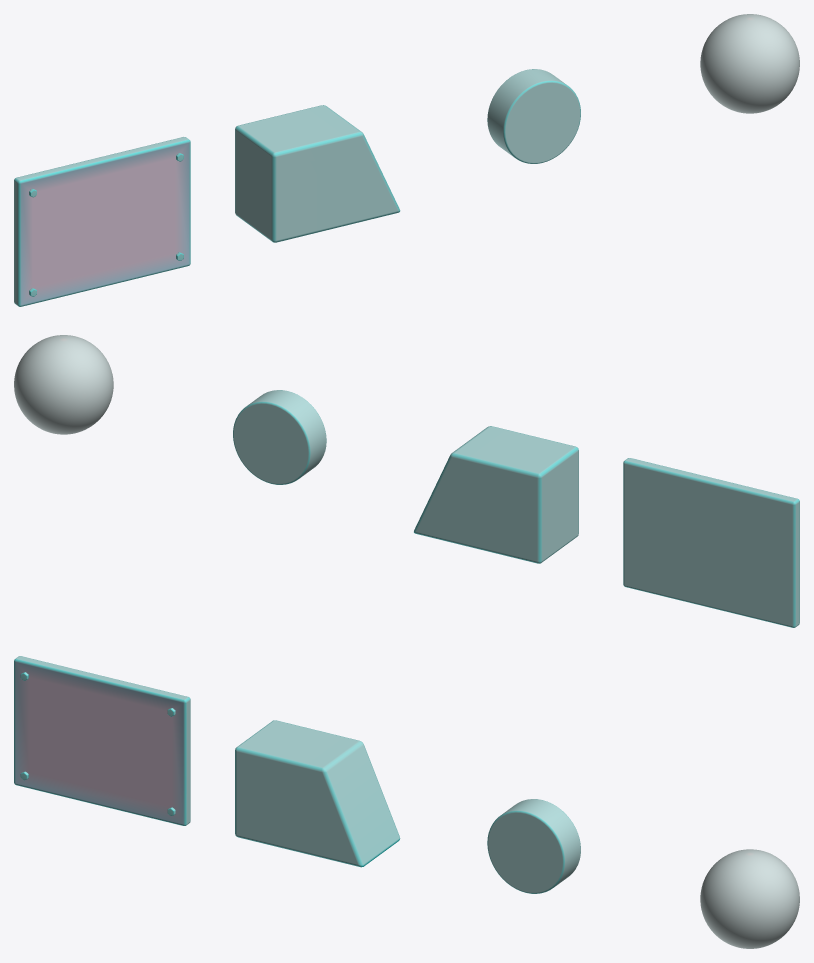
Rendered from material_board.glb.
The picture shows the model from 3 angles, top to bottom: view 1: azimuth 30°, elevation 25°; view 2: azimuth 150°, elevation 25°; view 3: azimuth 330°, elevation 25°; orthographic projection.
Visible parts, largest first — view 1: board_panel, board_block, board_sphere, board_hub; view 2: board_panel, board_block, board_sphere, board_hub; view 3: board_panel, board_block, board_sphere, board_hub.
Part boxes in pixels (left/top/right/bottom): board_panel: left=14, top=137, right=190, bottom=306; board_block: left=235, top=105, right=400, bottom=242; board_sphere: left=700, top=14, right=799, bottom=113; board_hub: left=487, top=69, right=580, bottom=163; board_panel: left=623, top=458, right=799, bottom=627; board_block: left=414, top=426, right=578, bottom=563; board_sphere: left=14, top=335, right=113, bottom=434; board_hub: left=233, top=390, right=326, bottom=484; board_panel: left=14, top=656, right=190, bottom=825; board_block: left=235, top=720, right=400, bottom=867; board_sphere: left=700, top=849, right=799, bottom=948; board_hub: left=487, top=799, right=580, bottom=893.
Size of the model in its own units: 1.8 by 0.28 by 0.2.
